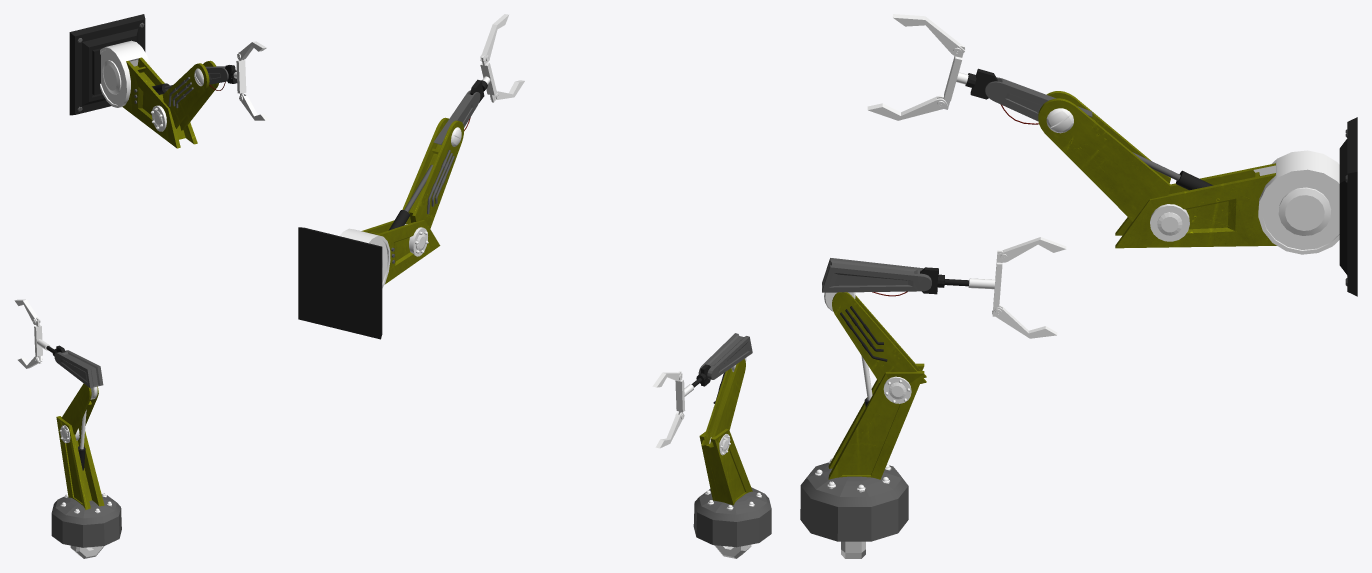
The model's file is MachinesPivotDoneNOXFORM.fbx.
The picture shows the model from 3 angles, left to right: view 1: azimuth 30°, elevation 25°; view 2: azimuth 150°, elevation 25°; view 3: azimuth 270°, elevation 25°; orthographic projection. The views are drawn at different scales.
Parts seen in each view (by area): view 1: Part1 (×2), WallClawBase, CentreClawBase, Box001, Part3 (×2), Part2, WallClawRotation, CentreClawExtendingArm2; view 2: WallClawBase, Part1 (×2), CentreClawBase, Box001, Part3 (×2), Part2; view 3: Part1 (×2), Box001, CentreClawBase, Part3 (×2), Part2, WallClawBase, Part1Cylinder, WallClawTop, WallClawBottom, CentreClawTop, CentreClawBottom.
Boxes of the visible parts, x1,y1,x2,y2 form: Part1 (×2): [56, 40, 197, 509]; WallClawBase: [69, 14, 145, 115]; CentreClawBase: [51, 494, 121, 547]; Box001: [162, 60, 218, 130]; Part3 (×2): [54, 66, 228, 388]; Part2: [61, 383, 98, 436]; WallClawRotation: [233, 52, 246, 95]; CentreClawExtendingArm2: [34, 318, 50, 363]; WallClawBase: [298, 227, 382, 339]; Part1 (×2): [339, 220, 752, 505]; CentreClawBase: [693, 487, 771, 547]; Box001: [402, 117, 464, 228]; Part3 (×2): [433, 90, 752, 379]; Part2: [701, 359, 745, 447]; Part1 (×2): [828, 150, 1339, 479]; Box001: [1038, 91, 1170, 221]; CentreClawBase: [800, 462, 908, 541]; Part3 (×2): [822, 77, 1092, 292]; Part2: [832, 292, 926, 383]; WallClawBase: [1339, 117, 1357, 296]; Part1Cylinder: [1150, 204, 1189, 241]; WallClawTop: [867, 95, 948, 120]; WallClawBottom: [892, 14, 965, 56]; CentreClawTop: [997, 237, 1066, 262]; CentreClawBottom: [992, 305, 1057, 338].
Bounding box in the file's own units: 120 × 203 × 151.
Materials: 5 (1 with a texture image).
